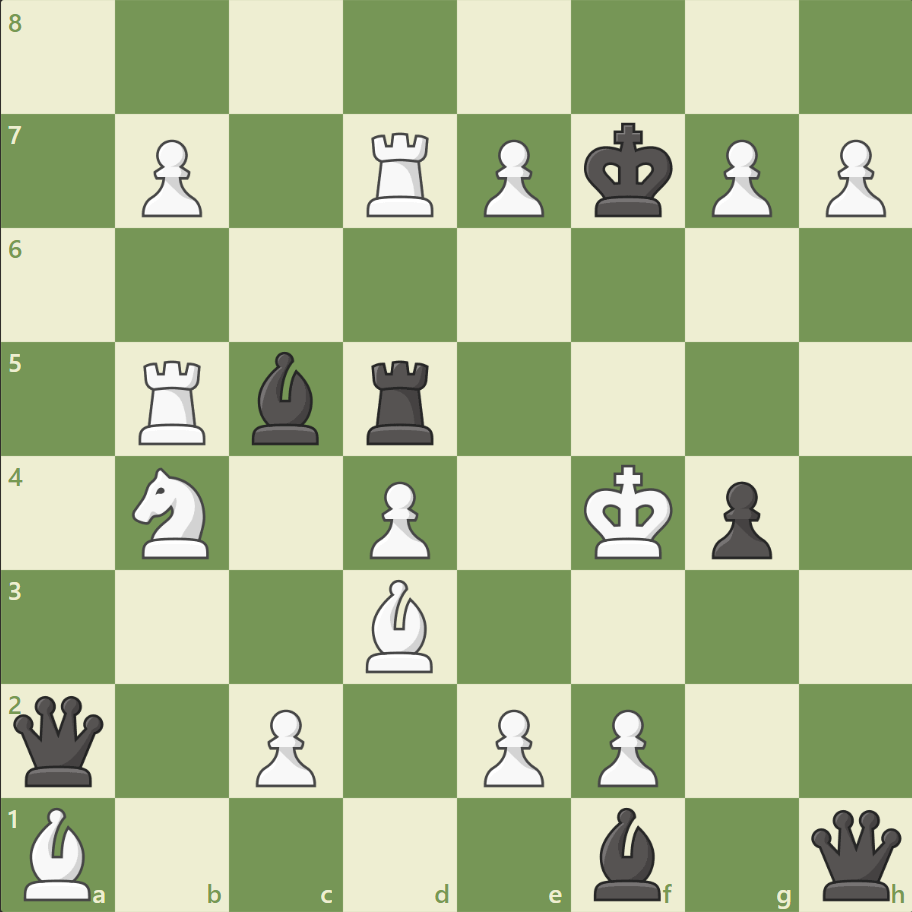B: (17, 801, 101, 904), (358, 574, 442, 676)
K: (579, 458, 679, 566)
N: (124, 461, 222, 564)
P: (133, 132, 208, 223), (474, 132, 549, 223), (701, 132, 776, 223), (247, 700, 322, 791), (474, 700, 549, 791), (815, 132, 889, 223), (361, 473, 435, 564), (588, 700, 662, 791)
R: (360, 125, 442, 222), (133, 352, 215, 449)
b: (585, 801, 669, 904), (244, 347, 328, 449)
k: (579, 117, 679, 225)
p: (701, 473, 776, 564)
q: (10, 690, 109, 789), (805, 804, 904, 903)
r: (360, 352, 442, 449)
